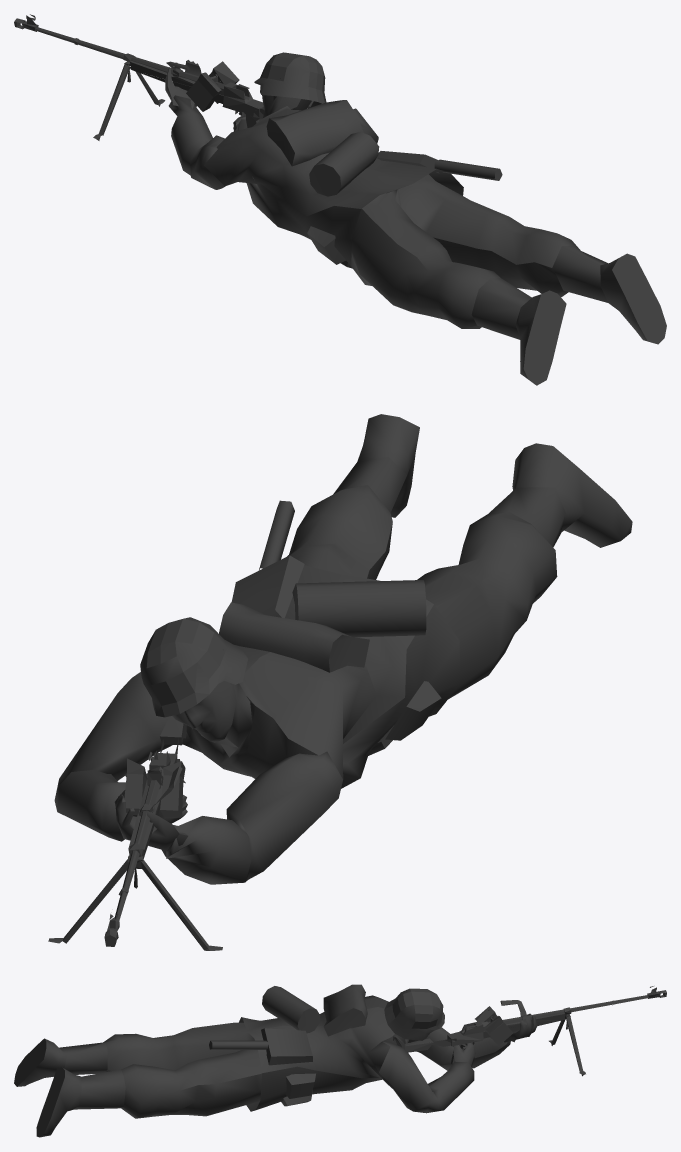
The model's file is de_mg_prono.glb.
3 views of the same model, one above another, from view 1: azimuth 30°, elevation 25°; view 2: azimuth 150°, elevation 25°; view 3: azimuth 270°, elevation 25° (orthographic). The views are drawn at different scales.
Parts seen in each view (by area): view 1: German_Anti_Tank_Team.000_German_Anti_Tank_Team.003_2; view 2: German_Anti_Tank_Team.000_German_Anti_Tank_Team.003_2; view 3: German_Anti_Tank_Team.000_German_Anti_Tank_Team.003_2.
Part boxes in pixels (box(x1,y1,x2,y2)): German_Anti_Tank_Team.000_German_Anti_Tank_Team.003_2: box(14, 14, 666, 385); German_Anti_Tank_Team.000_German_Anti_Tank_Team.003_2: box(48, 414, 632, 950); German_Anti_Tank_Team.000_German_Anti_Tank_Team.003_2: box(14, 984, 666, 1137).
Bounding box in the file's own units: 0.2577 × 0.1494 × 0.7754.
Materials: 1 (1 with a texture image).
